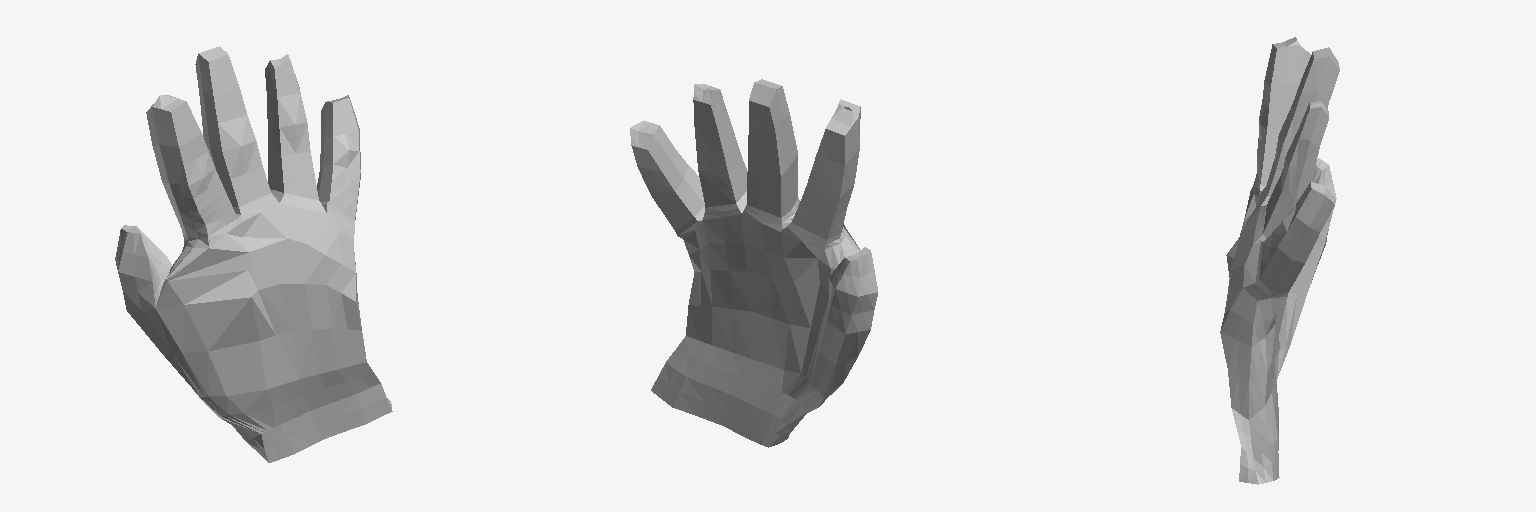
The model's file is flexion0010.obj.
3 renders of one model, left to right at view 1: azimuth 30°, elevation 25°; view 2: azimuth 150°, elevation 25°; view 3: azimuth 270°, elevation 25°, orthographic.
Visible parts, largest first — view 1: Hand; view 2: Hand; view 3: Hand.
Part boxes in pixels (bbox=[...]): Hand: bbox=[115, 46, 392, 462]; Hand: bbox=[630, 79, 877, 447]; Hand: bbox=[1220, 37, 1339, 484].
Size of the model in its own units: 3.27 by 4.88 by 1.36.